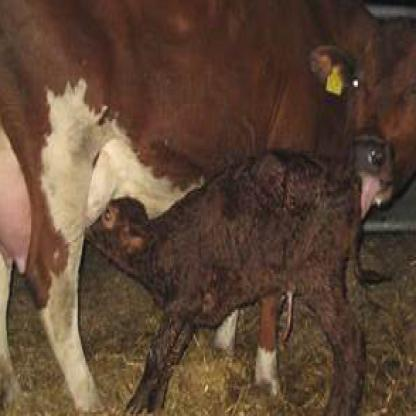cow: (0, 0, 415, 415), (86, 148, 395, 414)
